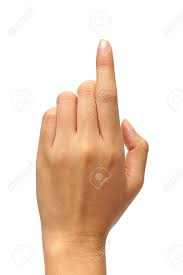hand: (18, 29, 163, 248)
